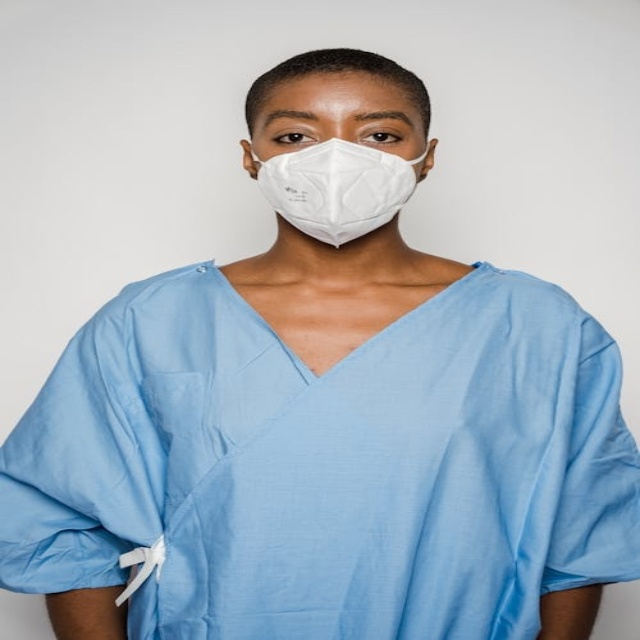Mascara: (250, 137, 425, 246)
Sin_gafas: (256, 112, 420, 146)
